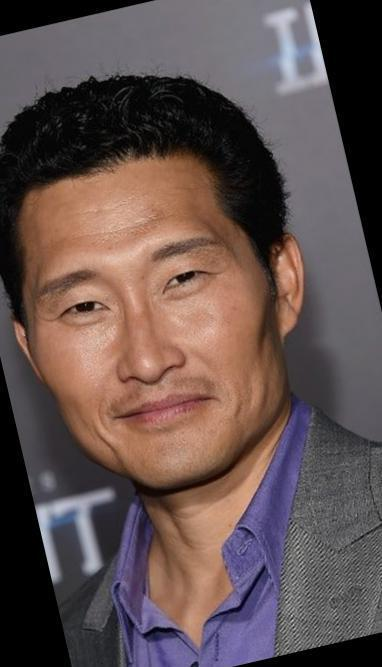Sober: (43, 176, 277, 487)
